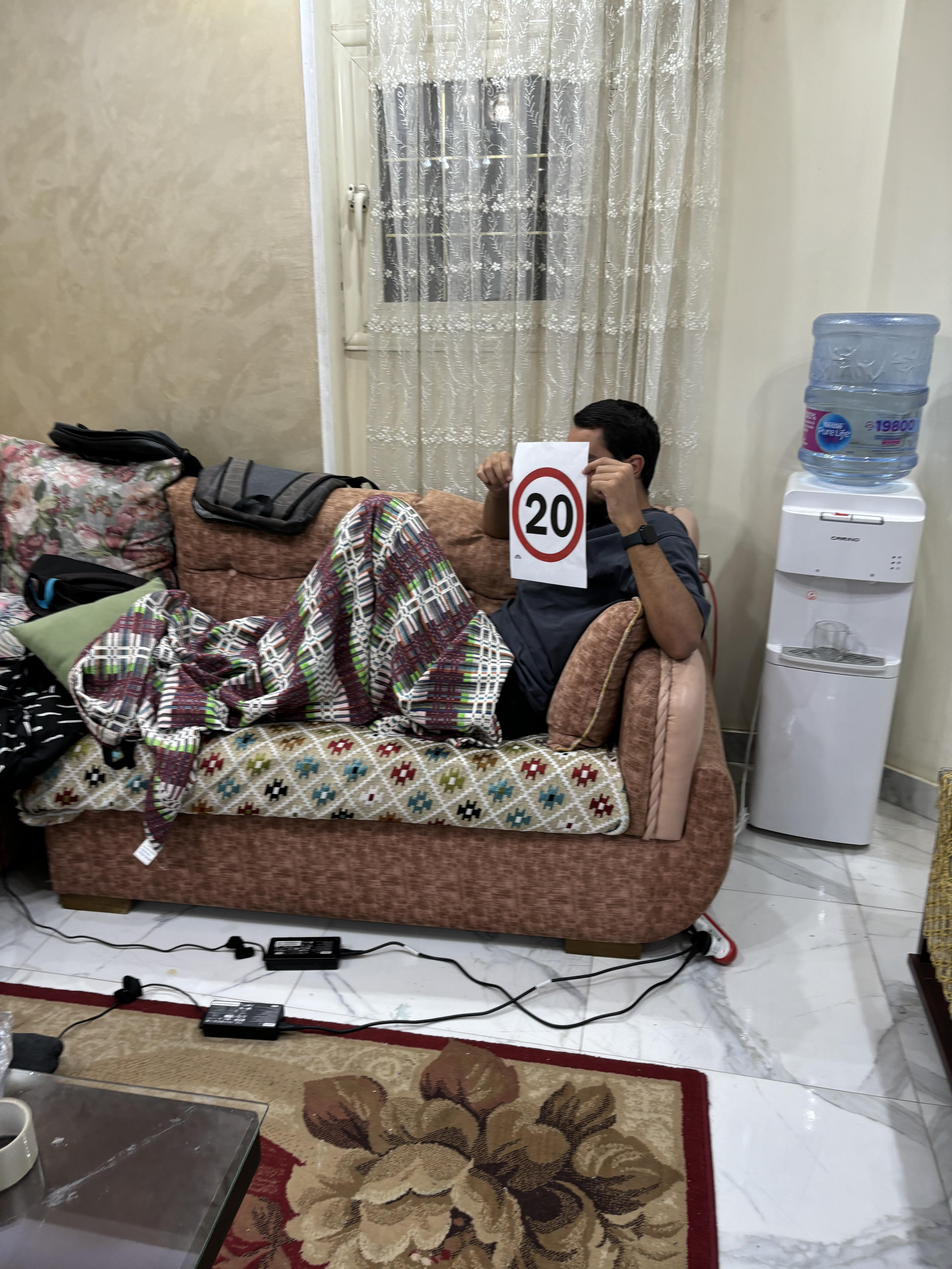20-Speed: (509, 465, 589, 566)
